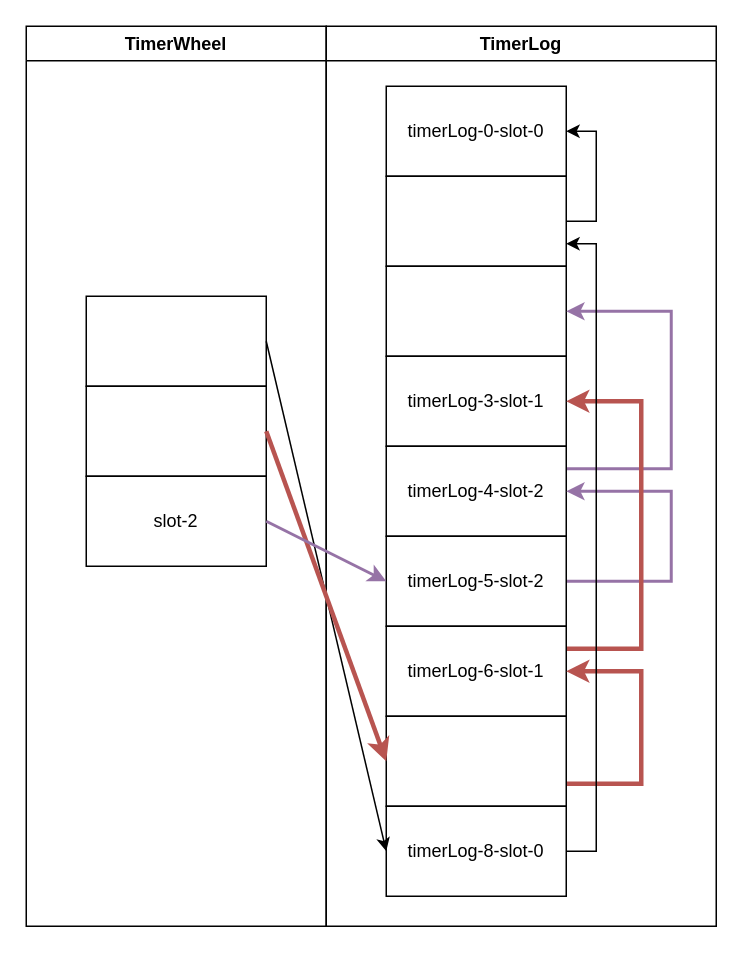
Some shapes in this 743 by 953 pixel diagram are drawn without their labels. Here are the shapes that lost their labels. From the top down, the box of each, then its label:
(385, 175, 566, 266): timerLog-1-slot-0
(385, 265, 566, 356): timerLog-2-slot-2
(85, 295, 266, 386): slot-0
(85, 385, 266, 476): slot-1
(385, 715, 566, 806): timerLog-7-slot-1
